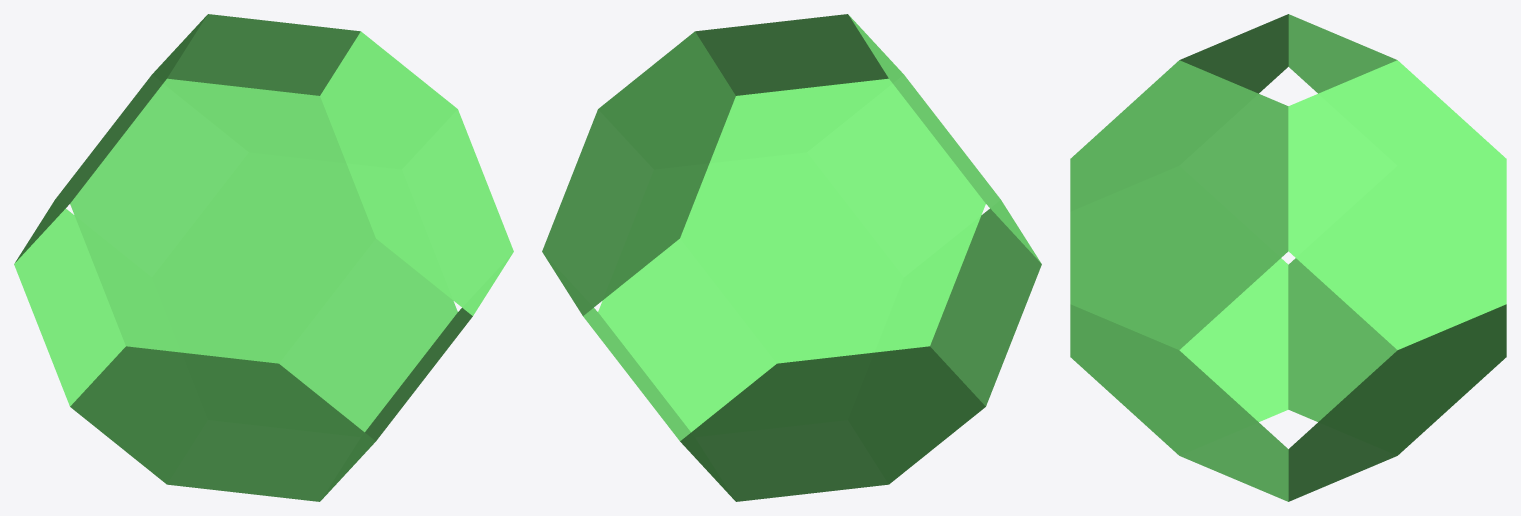
File: TruncatedOctahedronA1.obj
3 views of the same model, side by side, from view 1: azimuth 30°, elevation 25°; view 2: azimuth 150°, elevation 25°; view 3: azimuth 270°, elevation 25° (orthographic). The views are drawn at different scales.
Size of the model in its own units: 2.83 by 2.83 by 2.83.
